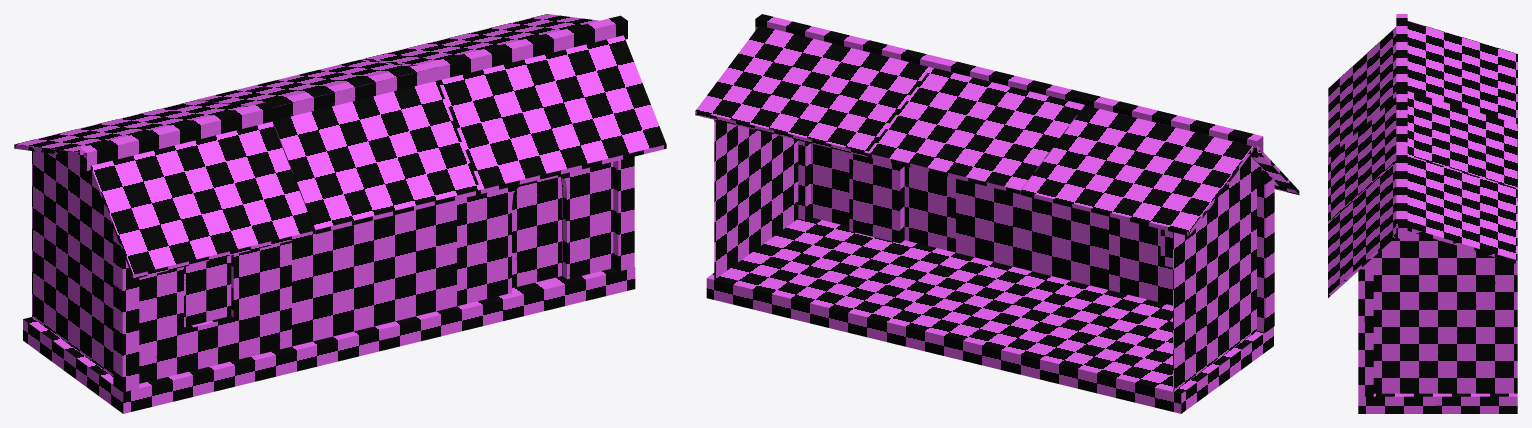
Rendered from SM_small house_v2.fbx.
3 views of the same model, side by side, from view 1: azimuth 30°, elevation 25°; view 2: azimuth 150°, elevation 25°; view 3: azimuth 270°, elevation 25° (orthographic). The views are drawn at different scales.
Visible parts, largest first — view 1: Cube.029; view 2: Cube.029; view 3: Cube.029.
Boxes of the visible parts, x1,y1,x2,y2 form: Cube.029: [14, 14, 666, 413]; Cube.029: [695, 14, 1299, 413]; Cube.029: [1328, 14, 1517, 413].
Size of the model in its own units: 917 by 400 by 350.
